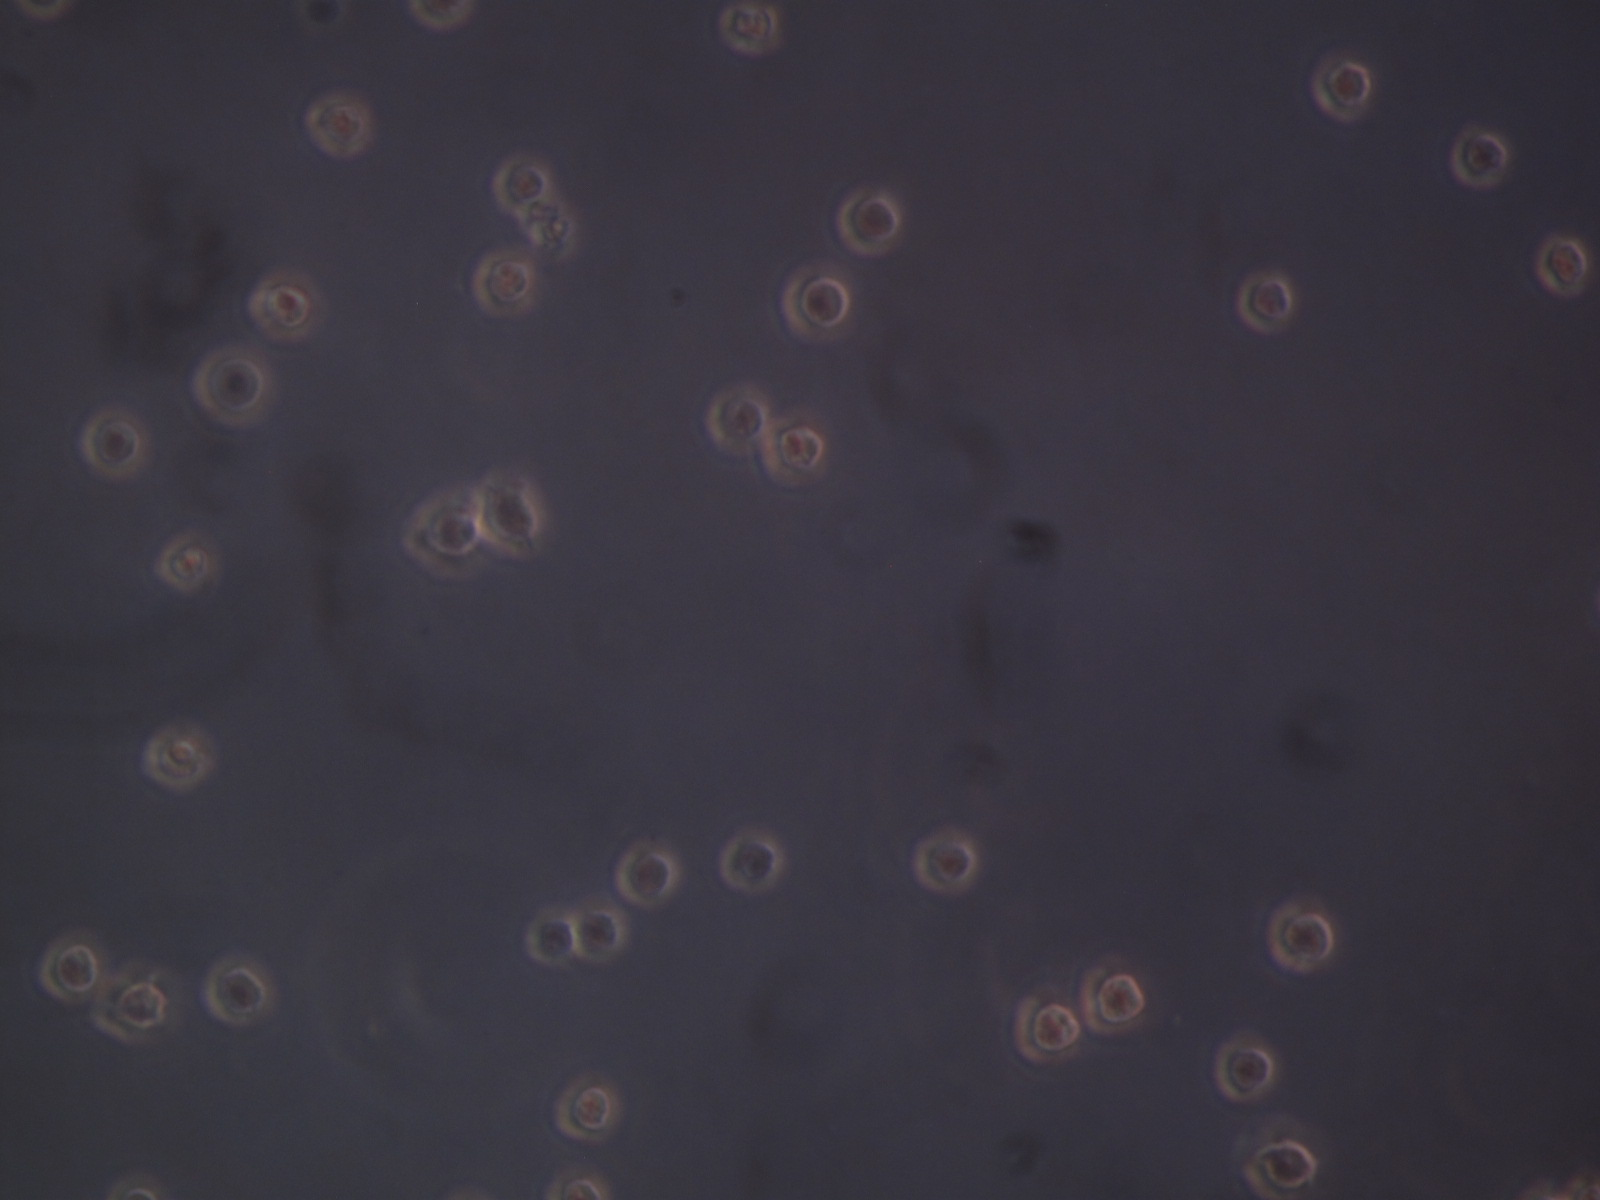hemo: (401, 495, 480, 579), (193, 348, 270, 424), (781, 265, 850, 345), (475, 473, 542, 556), (92, 966, 168, 1036), (758, 415, 828, 489), (142, 724, 213, 793), (1081, 966, 1146, 1036), (553, 1073, 619, 1142), (203, 957, 270, 1024), (1267, 904, 1332, 973), (913, 828, 976, 897), (42, 937, 102, 1008), (1311, 50, 1371, 124), (1014, 996, 1078, 1063), (1242, 1143, 1318, 1200), (837, 185, 898, 253), (249, 280, 315, 343), (305, 95, 370, 158), (472, 253, 537, 316), (1214, 1037, 1276, 1103), (708, 384, 769, 450), (619, 842, 677, 906), (156, 531, 215, 591), (81, 415, 144, 471), (724, 834, 784, 894), (717, 1, 784, 53), (1450, 127, 1507, 184), (1238, 275, 1293, 334), (573, 903, 624, 963), (1536, 236, 1587, 294), (493, 163, 549, 214), (527, 911, 576, 966), (546, 1167, 612, 1200), (412, 1, 477, 32)
